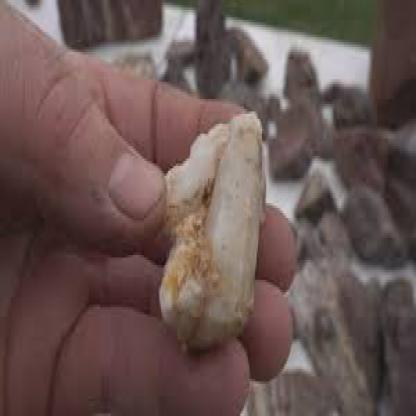Metamorphic_Quartize: (160, 114, 274, 352)
